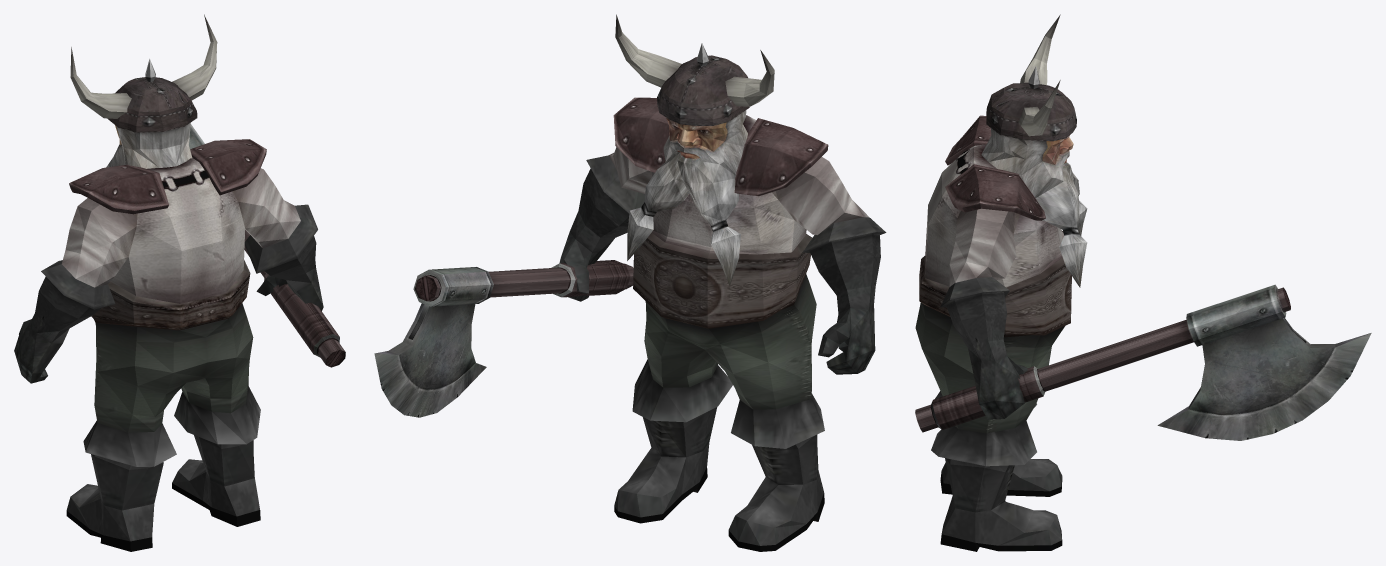
File: dwarf.obj
The picture shows the model from 3 angles, left to right: view 1: azimuth 30°, elevation 25°; view 2: azimuth 150°, elevation 25°; view 3: azimuth 270°, elevation 25°; orthographic projection. The views are drawn at different scales.
Parts seen in each view (by area): view 1: body, head, pads, axe; view 2: body, head, axe, pads; view 3: body, axe, head, pads.
Part boxes in pixels (x1=…): body: x1=14, y1=158, x2=323, y2=551; head: x1=70, y1=14, x2=217, y2=168; pads: x1=69, y1=139, x2=266, y2=214; axe: x1=188, y1=124, x2=345, y2=367; body: x1=559, y1=115, x2=886, y2=551; head: x1=615, y1=14, x2=774, y2=285; axe: x1=374, y1=260, x2=633, y2=417; pads: x1=613, y1=97, x2=828, y2=196; body: x1=915, y1=144, x2=1071, y2=551; axe: x1=915, y1=284, x2=1371, y2=440; head: x1=981, y1=14, x2=1087, y2=287; pads: x1=945, y1=115, x2=1045, y2=220.
Bounding box in the file's own units: 38.64 × 58.45 × 51.65.
2 materials, 2 textured.
